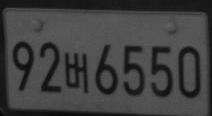0: (176, 44, 202, 99)
2: (38, 40, 61, 93)
5: (150, 45, 173, 98), (122, 44, 145, 96)
6: (94, 43, 119, 95)
9: (11, 40, 35, 92)
버: (64, 52, 88, 94)
